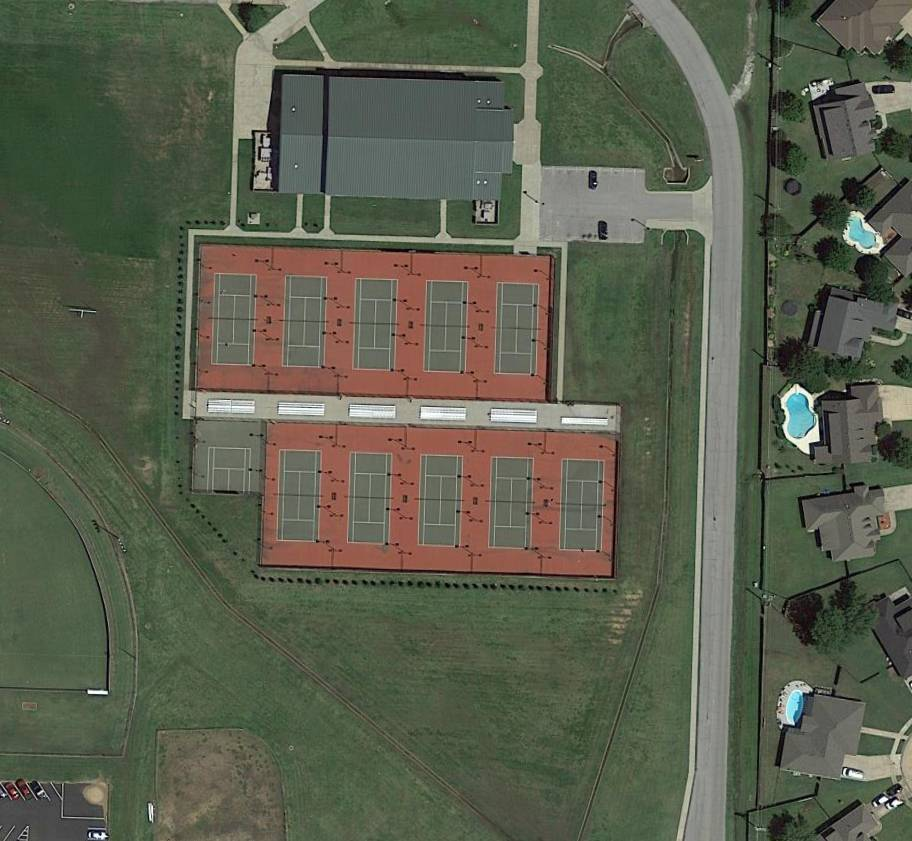swimming pool: (841, 215, 881, 254), (786, 395, 818, 440), (788, 689, 803, 724)
tennis court: (346, 451, 394, 545), (423, 279, 470, 374), (281, 274, 328, 369), (488, 457, 535, 551), (352, 278, 399, 371), (211, 273, 258, 366), (559, 458, 605, 552), (417, 455, 464, 547), (276, 450, 323, 542), (494, 282, 540, 376)
